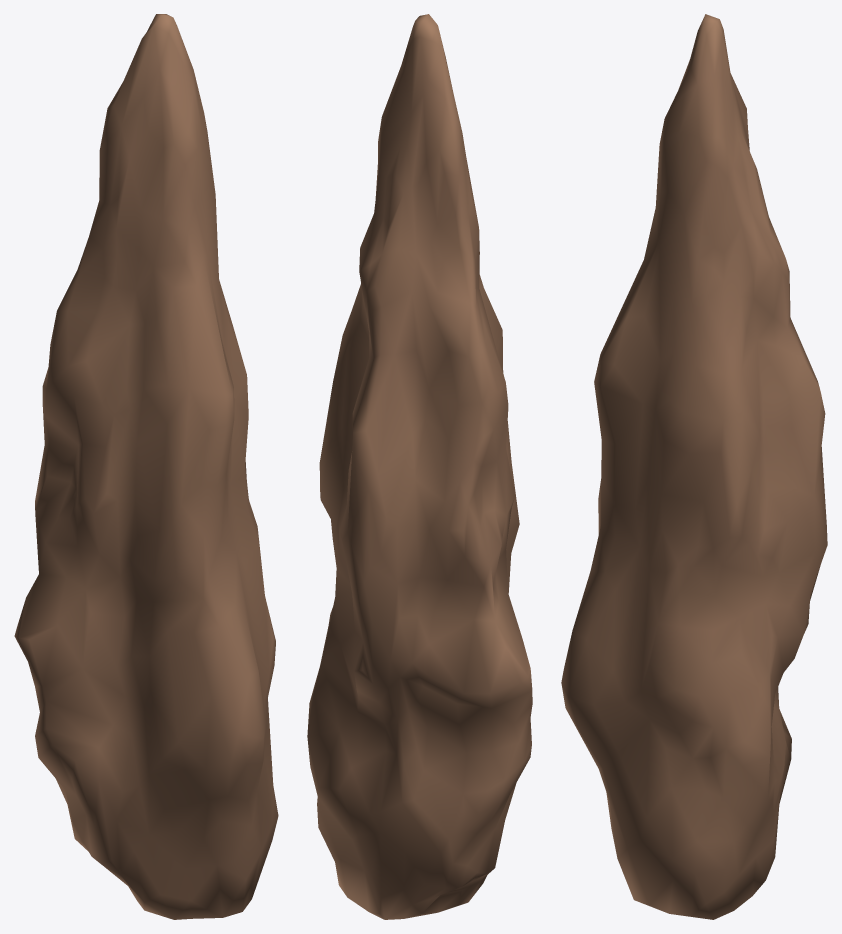
Rendered from termite_0.glb.
3 renders of one model, left to right at view 1: azimuth 30°, elevation 25°; view 2: azimuth 150°, elevation 25°; view 3: azimuth 270°, elevation 25°, orthographic. The views are drawn at different scales.
Parts seen in each view (by area): view 1: termite_0; view 2: termite_0; view 3: termite_0.
Boxes of the visible parts, box(x1,y1,x2,y2) form: termite_0: box(14, 14, 278, 919); termite_0: box(307, 14, 532, 919); termite_0: box(561, 14, 827, 919).
Size of the model in its own units: 0.2692 by 1 by 0.2789.
